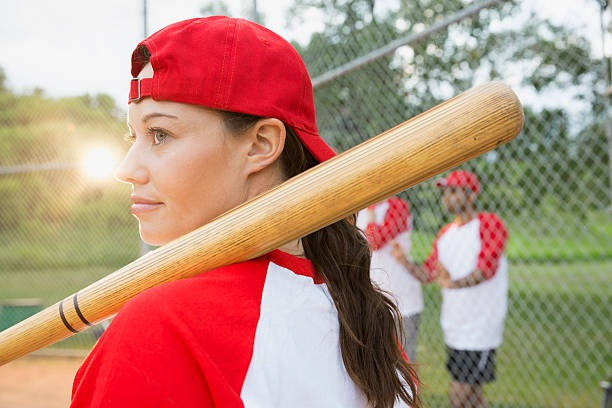bita: (1, 78, 524, 365)
